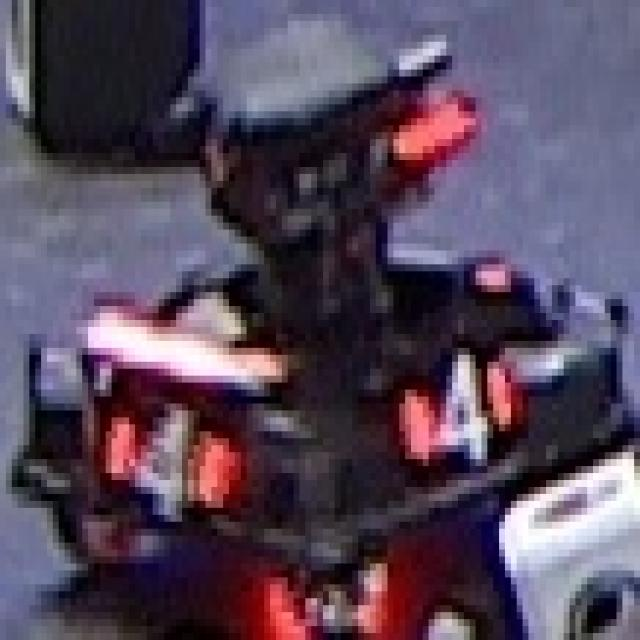R4: (106, 404, 240, 528), (393, 341, 517, 473)
